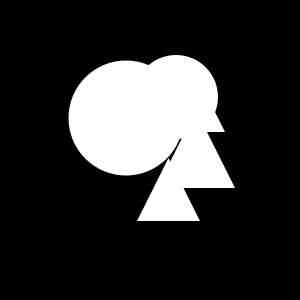rectangle: (68, 60, 184, 176), (134, 55, 218, 139)
triangle: (157, 110, 235, 188), (152, 59, 225, 132), (137, 158, 200, 221)
